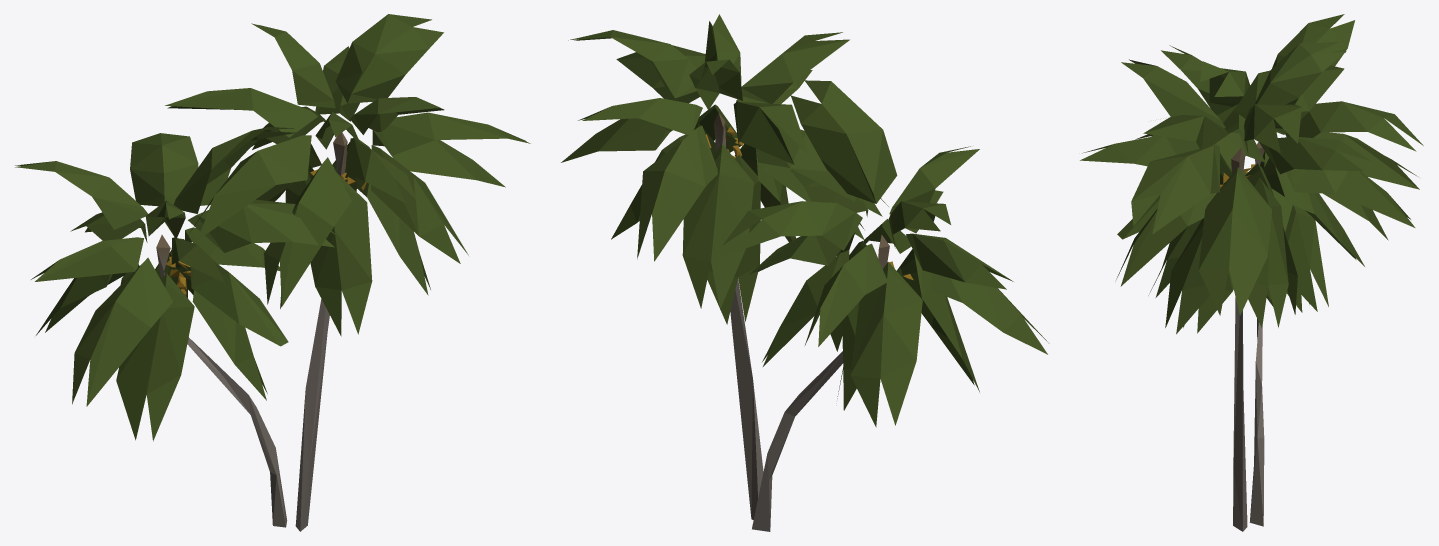
File: coconut-palm.lod2.glb
3 renders of one model, left to right at view 1: azimuth 30°, elevation 25°; view 2: azimuth 150°, elevation 25°; view 3: azimuth 270°, elevation 25°, orthographic. The views are drawn at different scales.
Parts seen in each view (by area): view 1: Tree_0_Tree_0Mat_0; view 2: Tree_0_Tree_0Mat_0; view 3: Tree_0_Tree_0Mat_0.
Boxes of the visible parts, <box> form: Tree_0_Tree_0Mat_0: <box>15,14,530,531</box>; Tree_0_Tree_0Mat_0: <box>561,14,1049,531</box>; Tree_0_Tree_0Mat_0: <box>1080,14,1423,531</box>.
Size of the model in its own units: 9.02 by 8.94 by 5.76.
